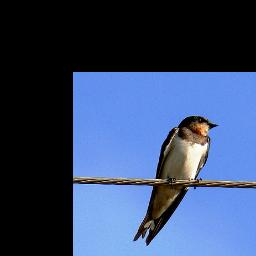Swallow: (133, 115, 220, 246)
